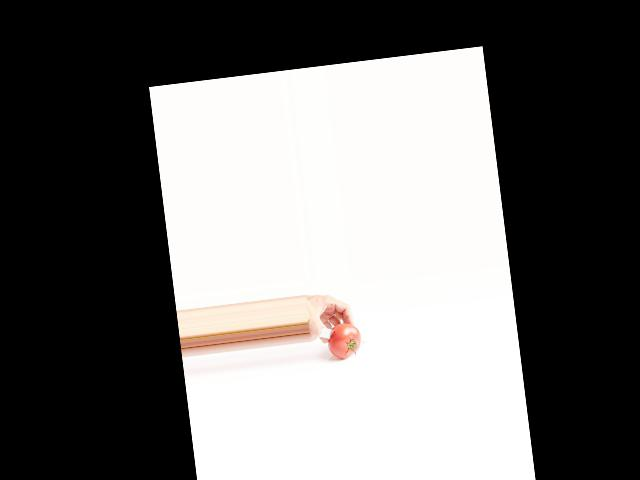tomato: (326, 321, 363, 360)
